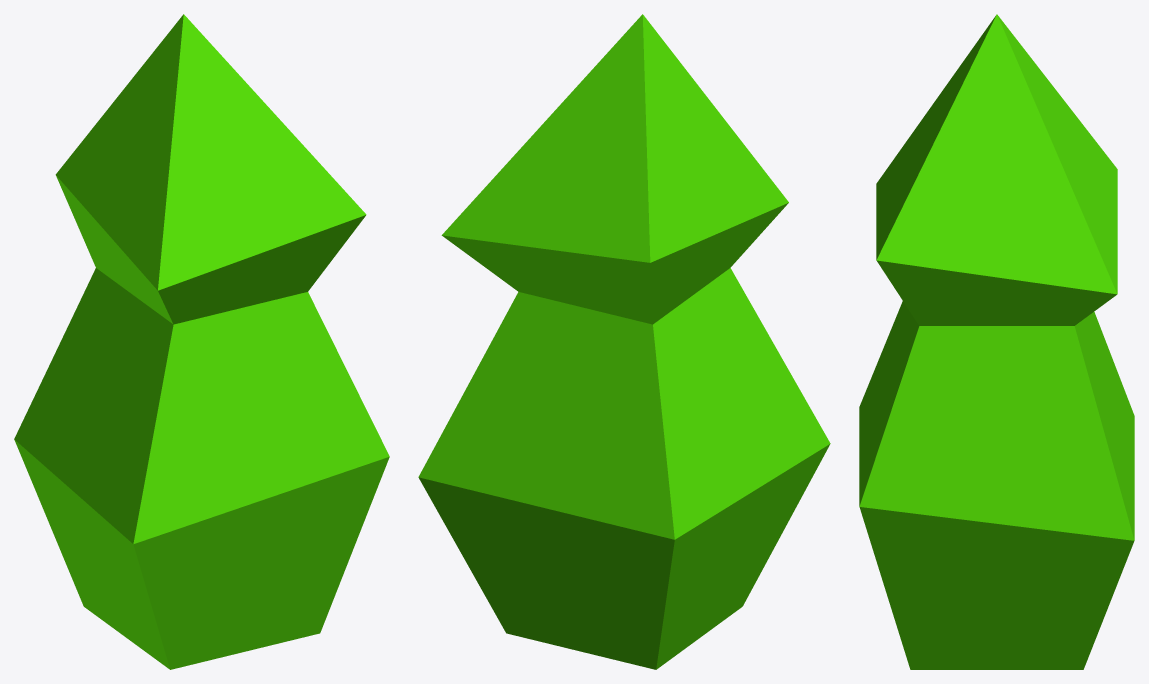
The model's file is Plant1.fbx.
3 renders of one model, left to right at view 1: azimuth 30°, elevation 25°; view 2: azimuth 150°, elevation 25°; view 3: azimuth 270°, elevation 25°, orthographic.
Visible parts, largest first — view 1: Arbusto 1; view 2: Arbusto 1; view 3: Arbusto 1.
Boxes of the visible parts, x1,y1,x2,y2 form: Arbusto 1: (14, 14, 389, 669); Arbusto 1: (418, 14, 830, 669); Arbusto 1: (859, 14, 1134, 669).
Bounding box in the file's own units: 164 × 348 × 142.
